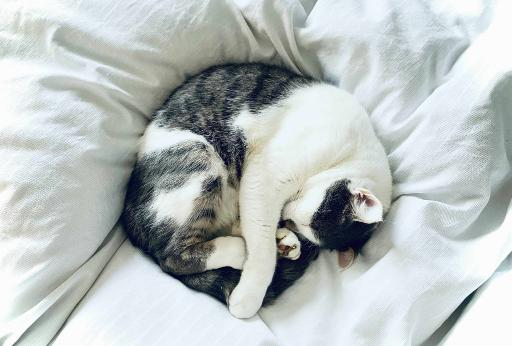cat_sleeping: (122, 62, 392, 318)
